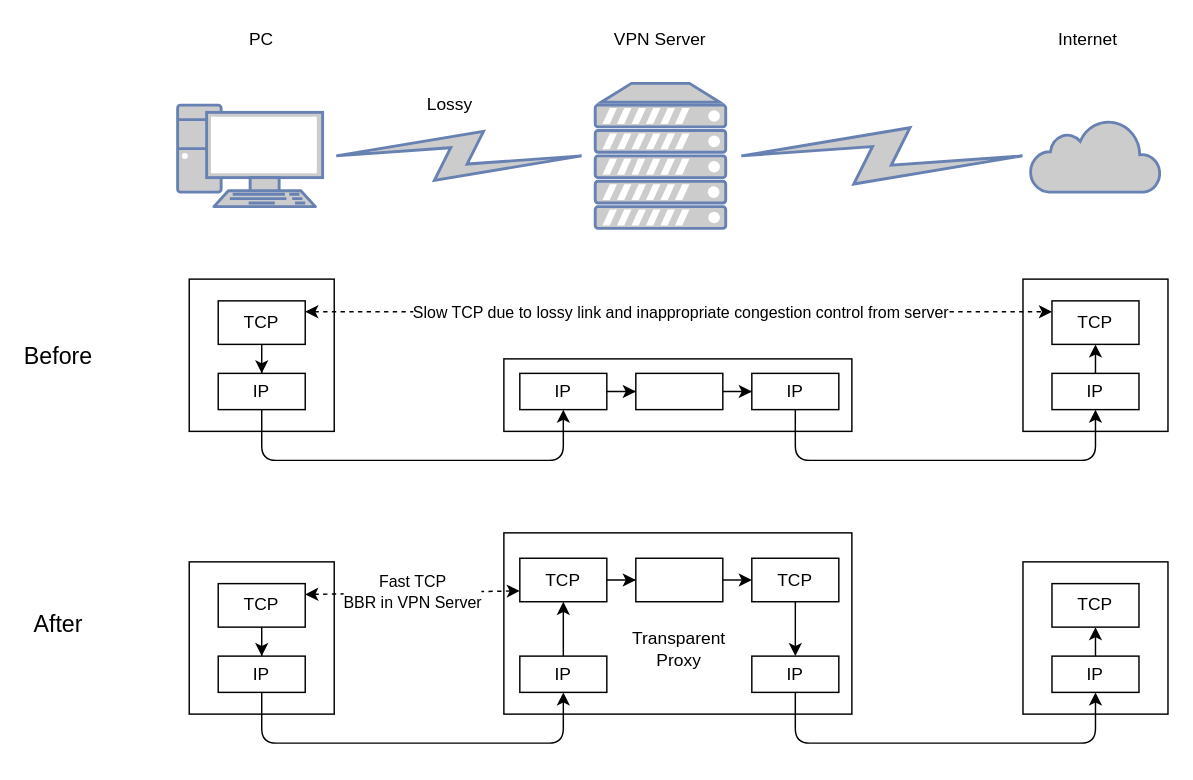
Some shapes in this 1193 by 780 pixel diagram are drawn without their labels. Here are the shapes that lost their labels. From the top down, the centre of each, then its label:
point (678, 391): Forward
point (678, 579): unapatp
